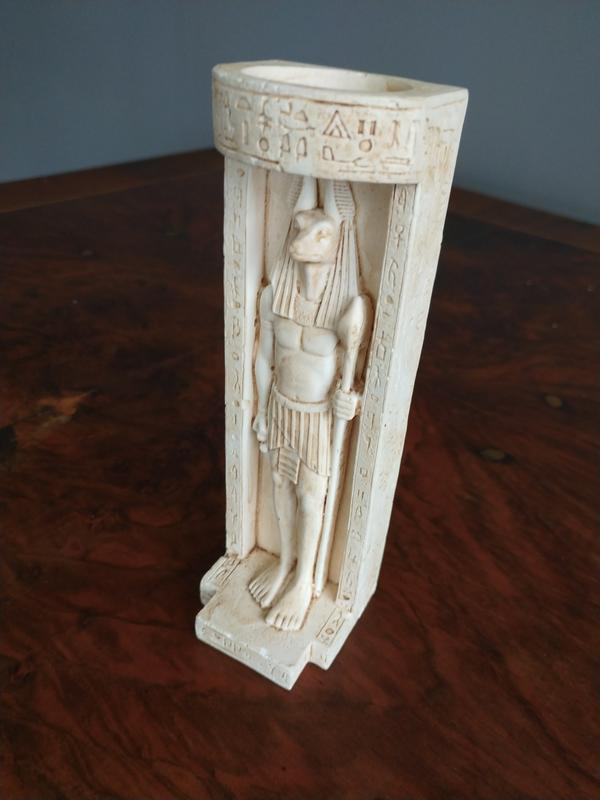heykel: (188, 53, 475, 701)
